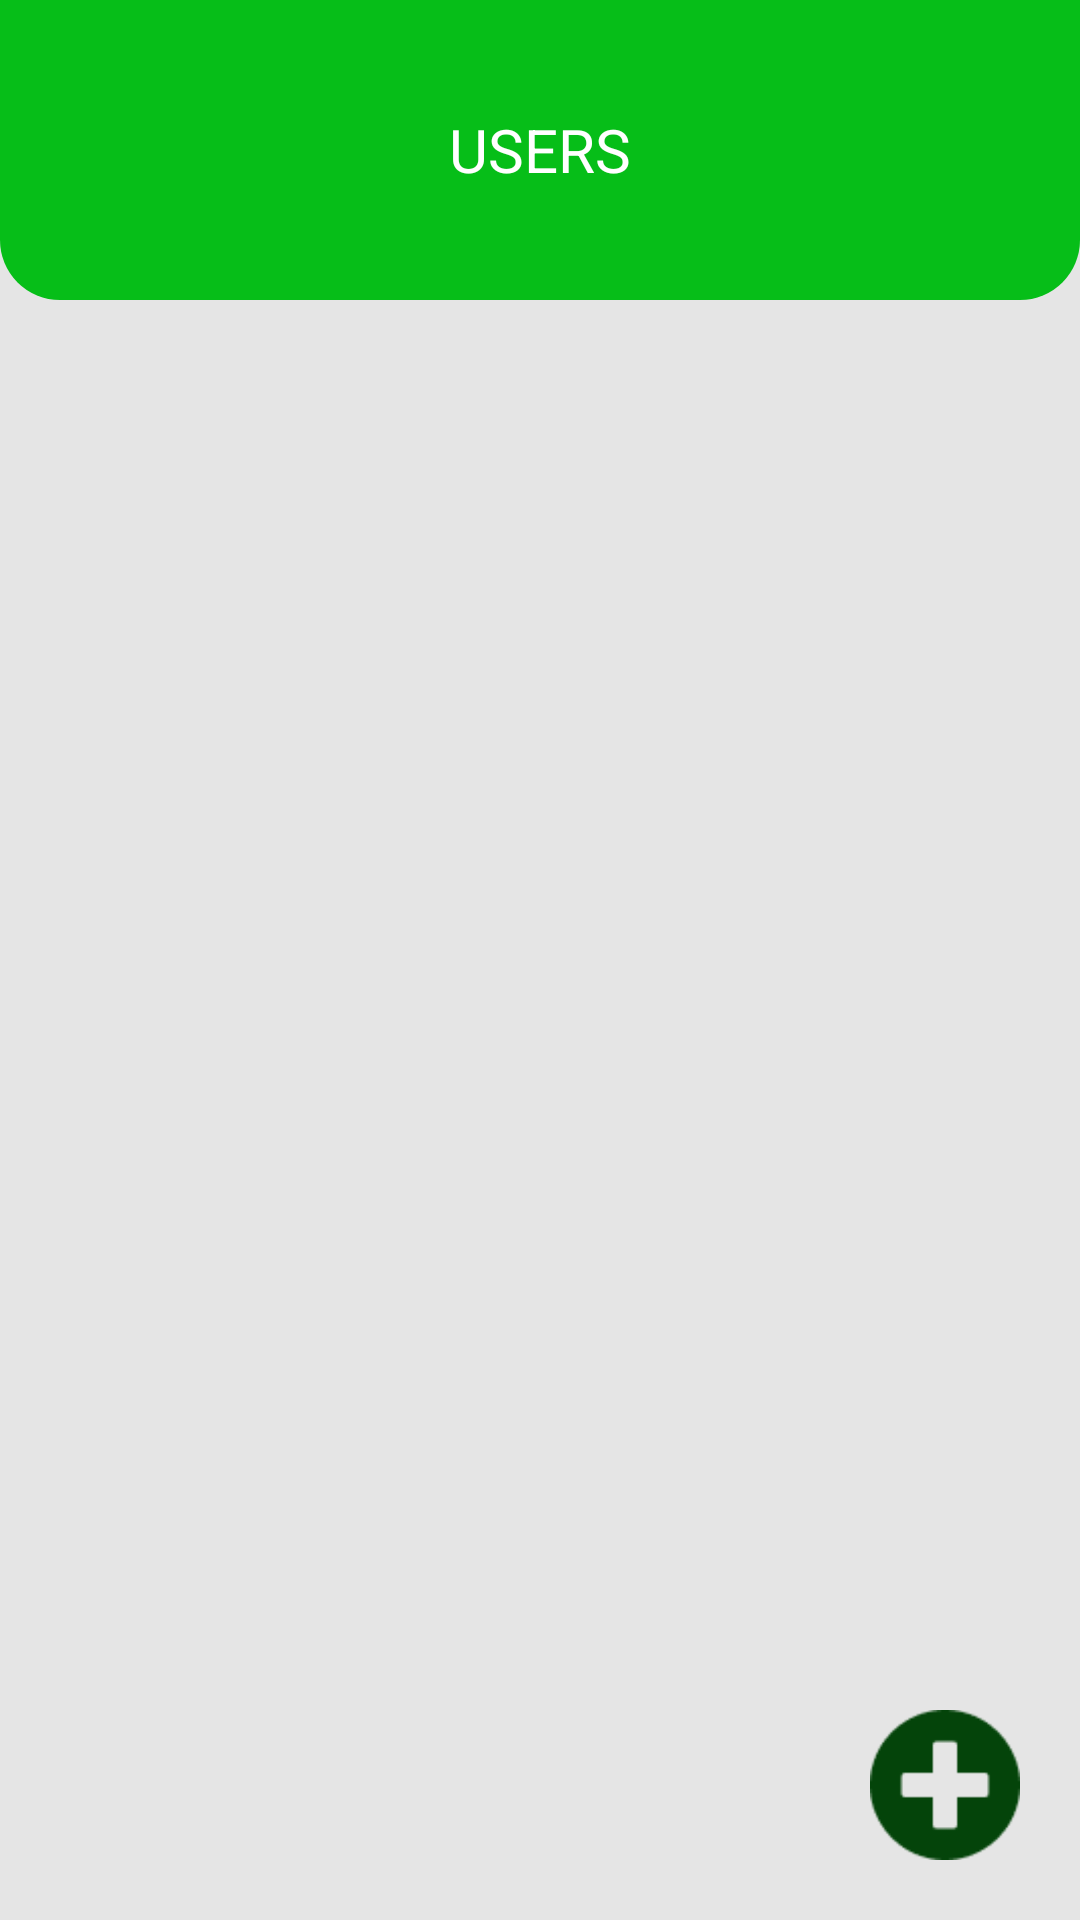

Locate icon controls on the screen. Image size 1080px x 1920px, boxes as (x1, y1, x2, y2).
plus: (870, 1710, 1020, 1860)
